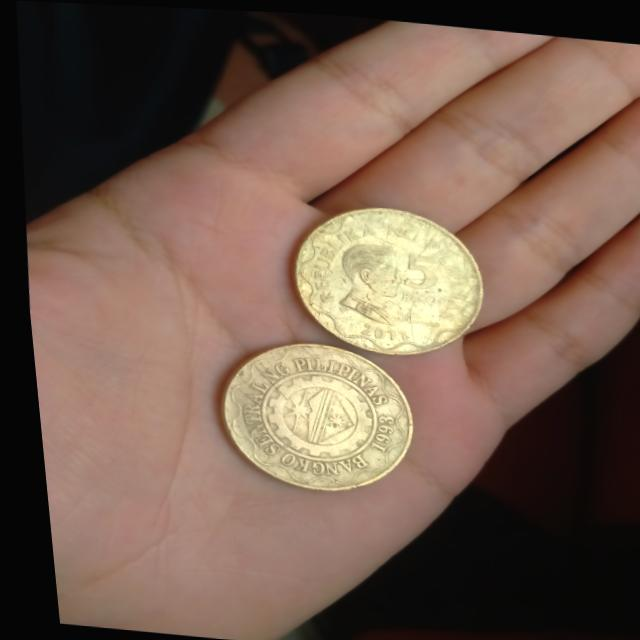5_Old_Back: (209, 333, 410, 497)
5_Old_Front: (369, 243, 449, 312)
